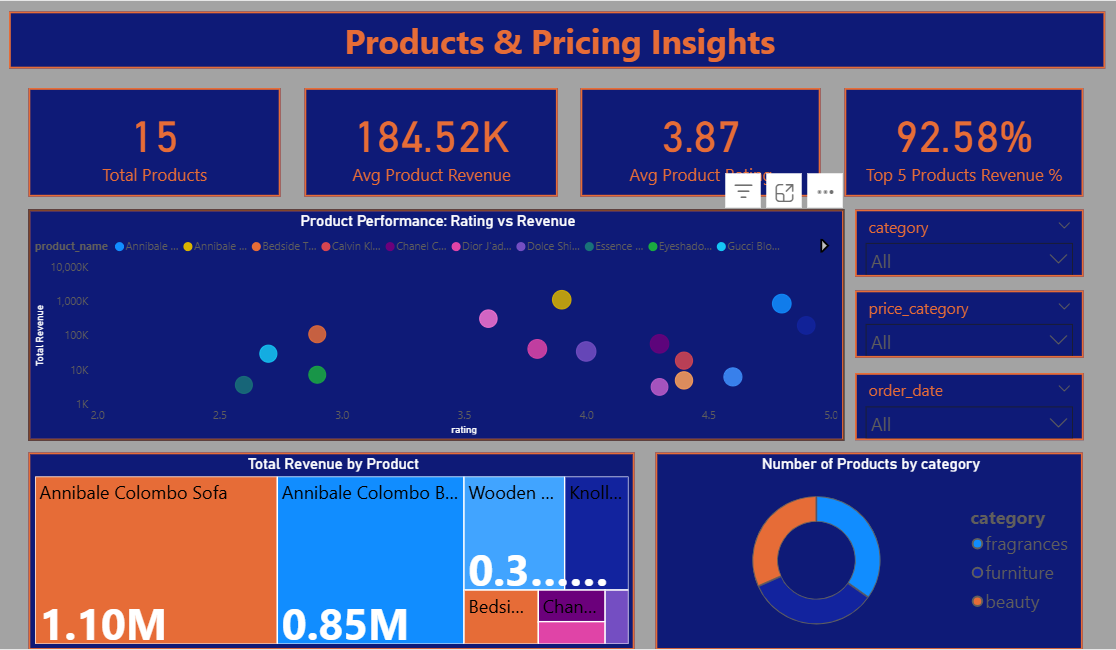

The dashboard page shown, as its layout file describes it:
{"tool":"powerbi","page":{"name":"Products Insight","canvas":[1280,720],"ordinal":2},"visuals":[{"type":"card","fields":{"Values":["Measures_Table.Total Products"]},"box":[48.8,96,279.8,120.4],"z":0},{"type":"card","title":"Avg Revenue/Customer","fields":{"Values":["Measures_Table.Avg Product Revenue"]},"box":[354.6,96,281.4,120.4],"z":1000},{"type":"card","fields":{"Values":["Measures_Table.Avg Product Rating"]},"box":[662,96,266.8,120.4],"z":2000},{"type":"card","fields":{"Values":["Measures_Table.Top 5 Products Revenue %"]},"box":[954.8,96,265.1,120.4],"z":3000},{"type":"textbox","box":[26,11.4,1218.3,63.4],"z":4000},{"type":"slicer","fields":{"Values":["products_clean.category"]},"box":[966.2,231,253.7,74.8],"z":5000},{"type":"slicer","fields":{"Values":["products_clean.price_category"]},"box":[966.2,322.1,253.7,74.8],"z":6000},{"type":"slicer","fields":{"Values":["orders.order_date"]},"box":[966.2,413.1,253.7,74.8],"z":7000},{"type":"treemap","title":"Total Revenue by Product","fields":{"Values":["Measures_Table.Total Revenue"],"Group":["products_clean.product_name"]},"box":[48.8,501,673.4,219.6],"z":8000},{"type":"donutChart","title":"Number of Products by category","fields":{"Category":["products_clean.category"],"Y":["CountNonNull(order_items.product_id)"]},"box":[745,501,475,219.6],"z":9000},{"type":"scatterChart","title":"Product Performance: Rating vs Revenue","fields":{"X":["products_clean.rating"],"Y":["Measures_Table.Total Revenue"],"Size":["Sum(order_items.quantity)"],"Series":["products_clean.product_name"]},"box":[48.8,231,906,257],"z":10000}]}

Visuals, with their boxes in screenshot pixels (x1, y1, x2, y2):
card - Measures_Table.Total Products: 32/86/281/193
"Avg Revenue/Customer" card: 304/86/555/193
card - Measures_Table.Avg Product Rating: 579/86/816/193
card - Measures_Table.Top 5 Products Revenue %: 840/86/1076/193
textbox: 12/10/1098/67
slicer - products_clean.category: 850/206/1076/273
slicer - products_clean.price_category: 850/287/1076/354
slicer - orders.order_date: 850/368/1076/435
"Total Revenue by Product" treemap: 32/447/632/642
"Number of Products by category" donutChart: 652/447/1076/642
"Product Performance: Rating vs Revenue" scatterChart: 32/206/840/435
